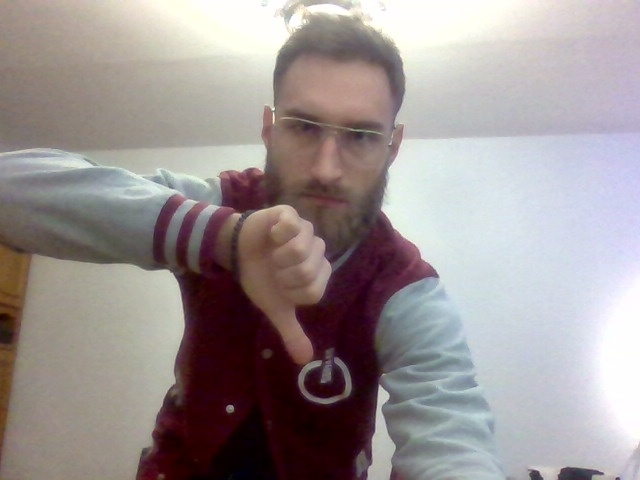ThumbsDown: (232, 204, 332, 365)
